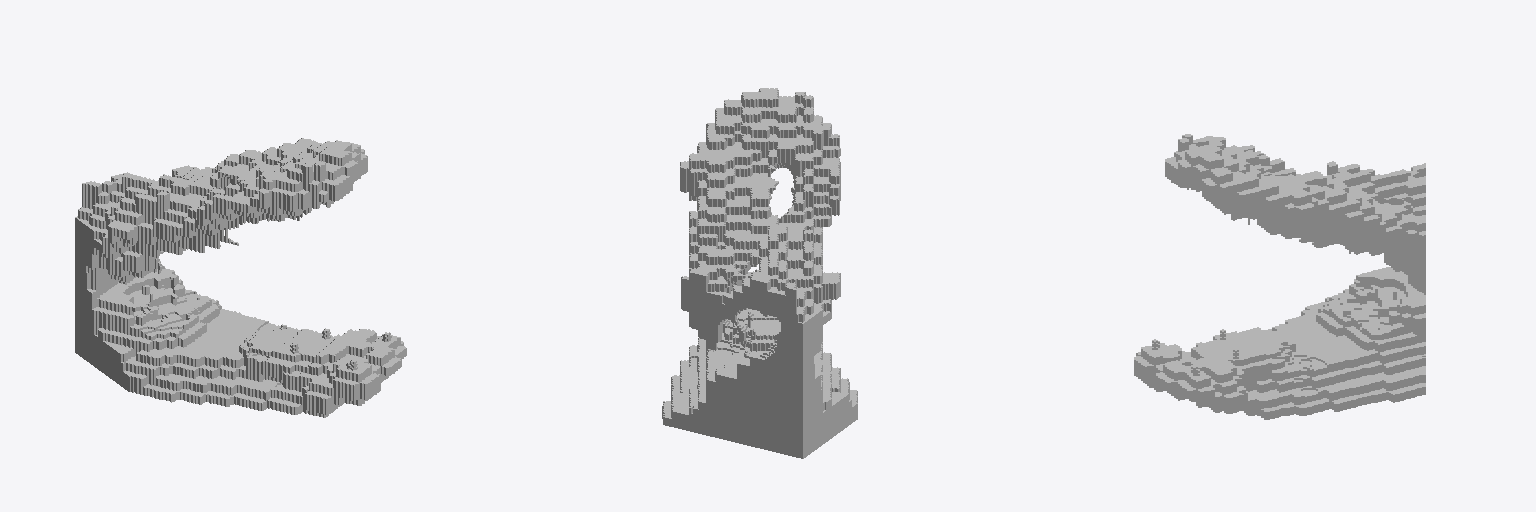
Rendered from swamp test01-1.obj.
3 views of the same model, side by side, from view 1: azimuth 30°, elevation 25°; view 2: azimuth 150°, elevation 25°; view 3: azimuth 270°, elevation 25° (orthographic).
Visible parts, largest first — view 1: object 1; view 2: object 1; view 3: object 1.
Boxes of the visible parts, box(x1,y1,x2,y2) form: object 1: box(75, 138, 406, 417); object 1: box(662, 88, 857, 458); object 1: box(1134, 134, 1425, 419).
Size of the model in its own units: 11.4 by 12.4 by 13.3.